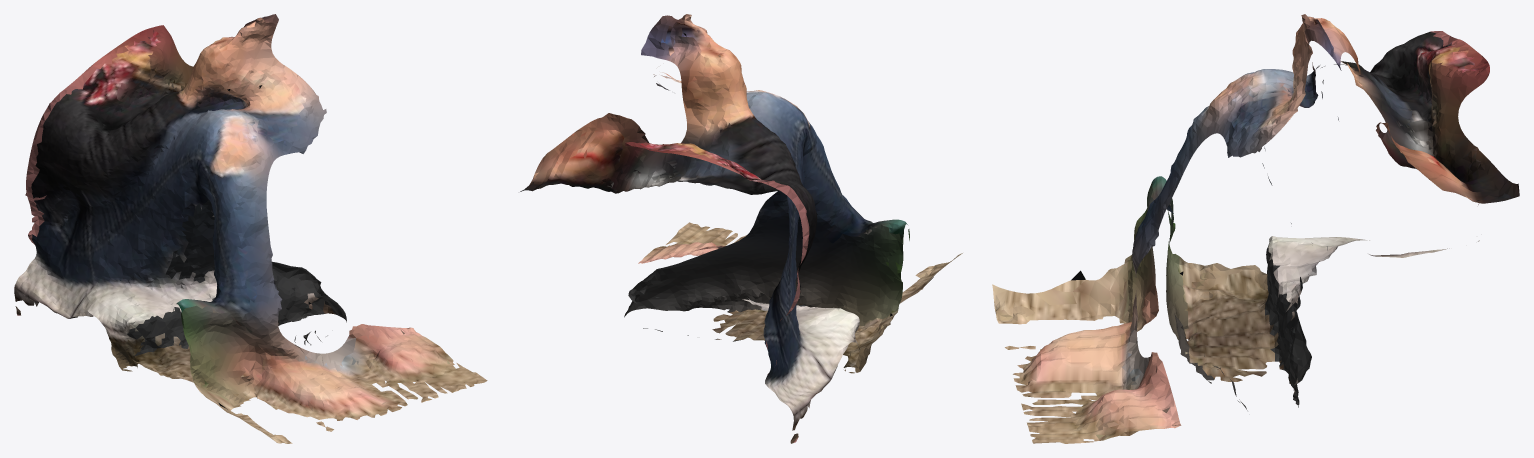
3 renders of one model, left to right at view 1: azimuth 30°, elevation 25°; view 2: azimuth 150°, elevation 25°; view 3: azimuth 270°, elevation 25°, orthographic. The views are drawn at different scales.
Size of the model in its own units: 0.5496 by 0.5656 by 0.7417.
1 material, 1 textured.
